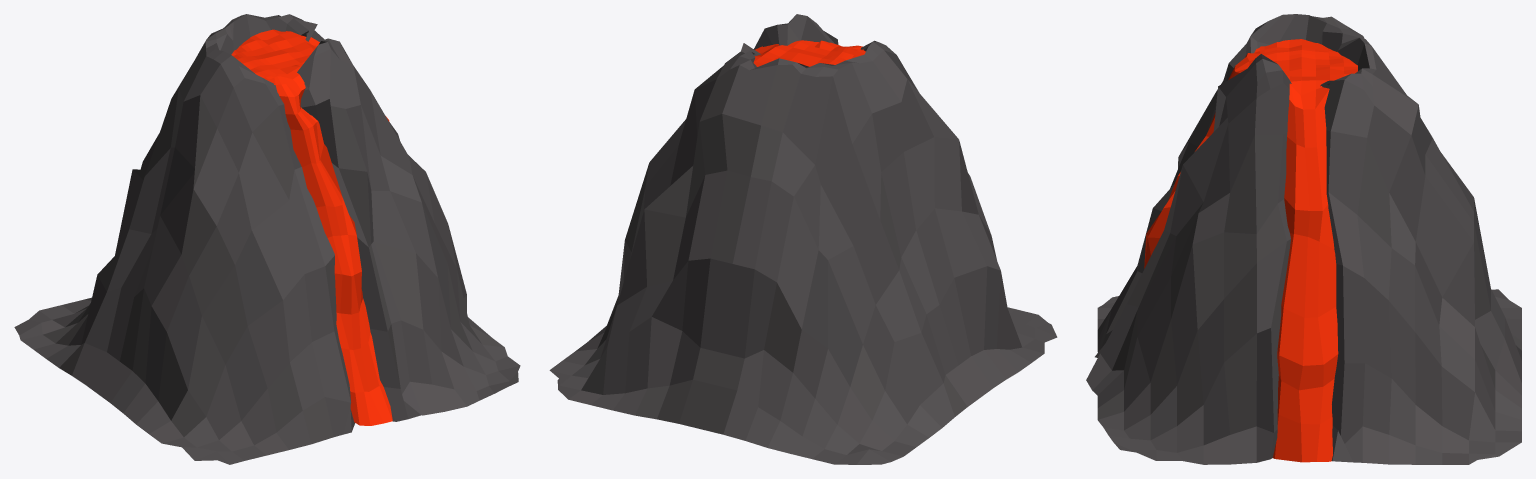
Rendered from Volcano_Ver2.fbx.
3 renders of one model, left to right at view 1: azimuth 30°, elevation 25°; view 2: azimuth 150°, elevation 25°; view 3: azimuth 270°, elevation 25°, orthographic. The views are drawn at different scales.
Visible parts, largest first — view 1: Volcano, Magma; view 2: Volcano, Magma; view 3: Volcano, Magma.
Boxes of the visible parts, bbox=[...] form: Volcano: bbox=[14, 14, 520, 464]; Magma: bbox=[231, 29, 392, 425]; Volcano: bbox=[549, 14, 1057, 464]; Magma: bbox=[753, 40, 865, 66]; Volcano: bbox=[1086, 14, 1521, 464]; Magma: bbox=[1144, 39, 1357, 462].
Bounding box in the file's own units: 1210 × 1046 × 1232.
